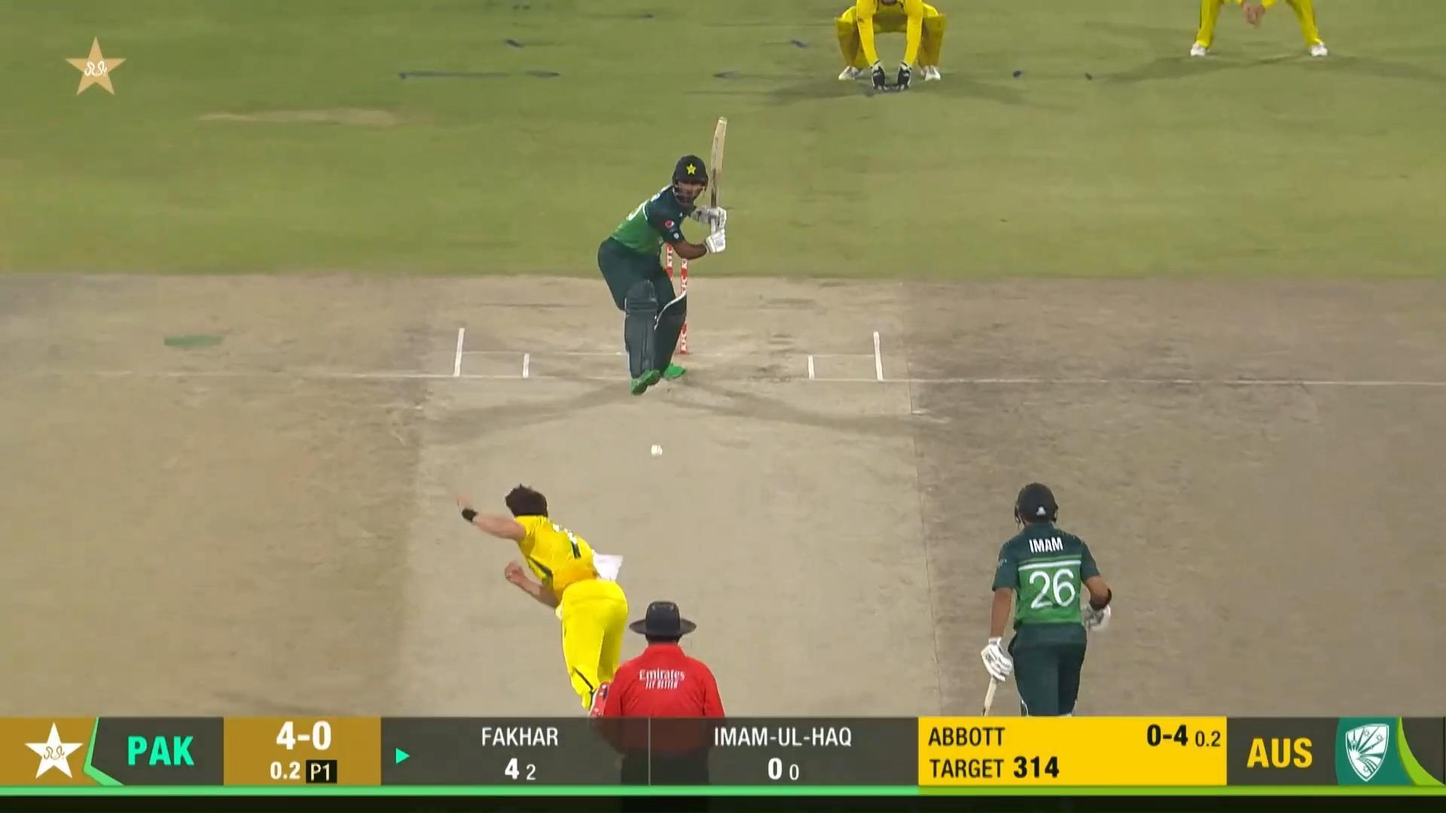BM 1: (597, 115, 728, 396)
BO: (458, 482, 628, 717)
